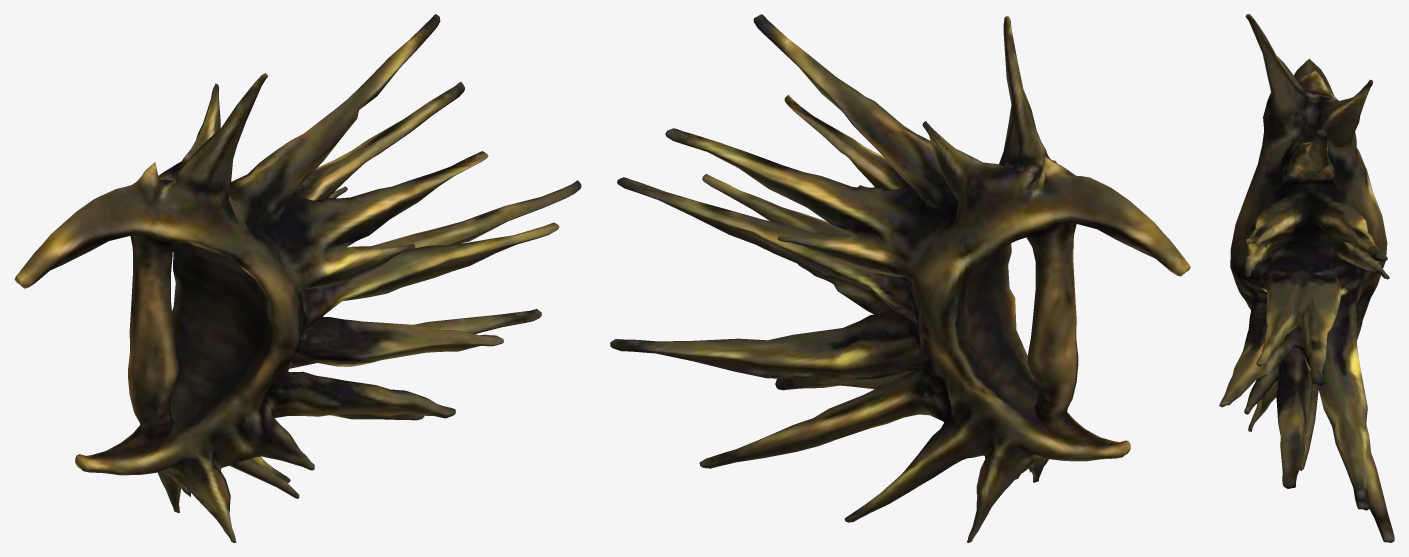
The model's file is weapon-sun-s-scorn.glb.
The picture shows the model from 3 angles, left to right: view 1: azimuth 30°, elevation 25°; view 2: azimuth 150°, elevation 25°; view 3: azimuth 270°, elevation 25°; orthographic projection. The views are drawn at different scales.
Visible parts, largest first — view 1: fistL_MDL_q; view 2: fistL_MDL_q; view 3: fistL_MDL_q.
Part boxes in pixels (left/top/right/bottom): fistL_MDL_q: left=14, top=14, right=581, bottom=542; fistL_MDL_q: left=610, top=14, right=1190, bottom=542; fistL_MDL_q: left=1219, top=14, right=1394, bottom=542.
Bounding box in the file's own units: 0.6271 × 0.5062 × 0.1796.
Materials: 2 (2 with a texture image).
